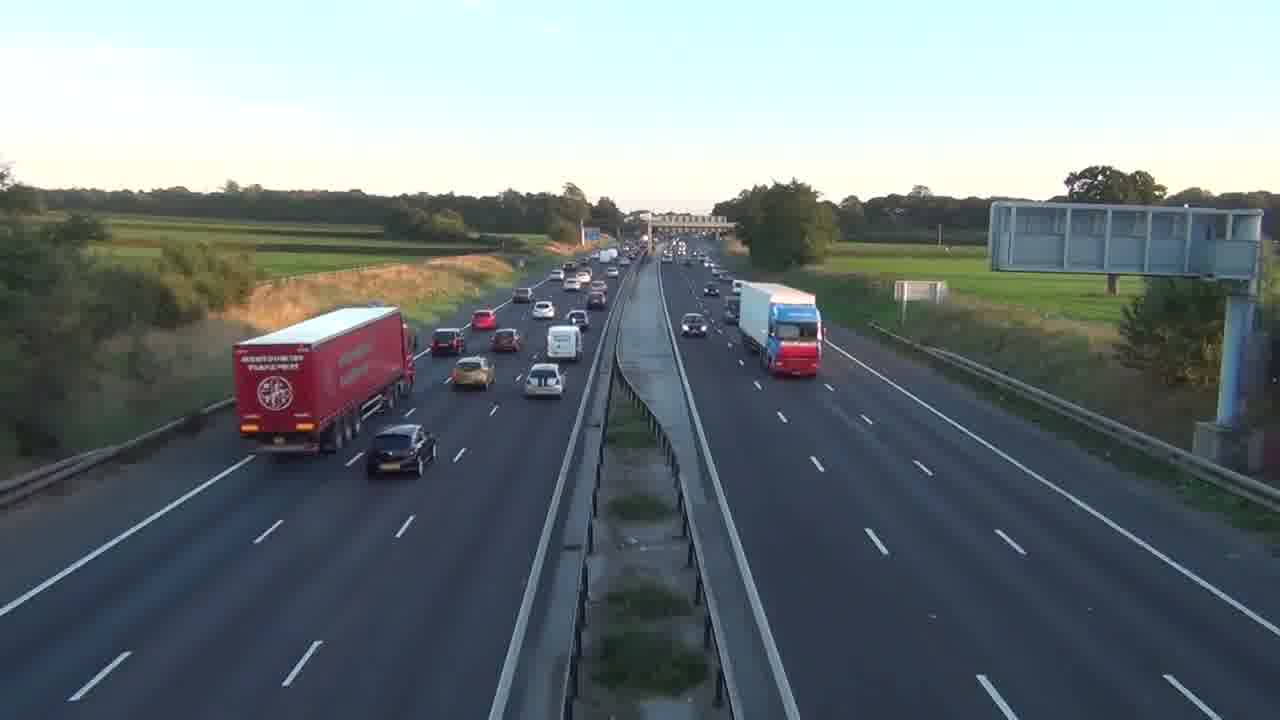car: (366, 423, 438, 479), (446, 355, 493, 390), (523, 362, 565, 399), (490, 328, 521, 353), (680, 312, 707, 335), (470, 309, 496, 330)
truck: (233, 302, 417, 455), (737, 280, 821, 378)
